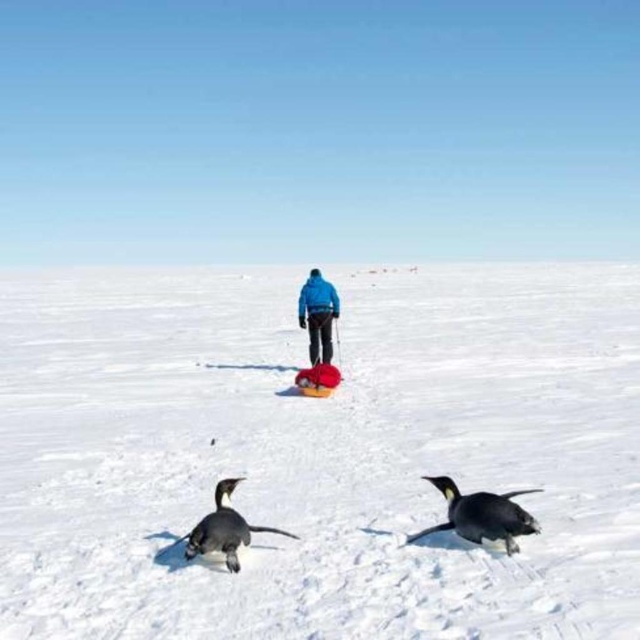Penguin: (399, 477, 546, 559), (172, 475, 302, 567)
